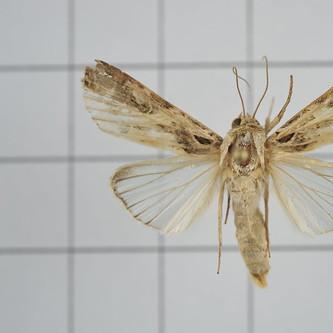Spodoptera litura: (80, 56, 333, 289)
